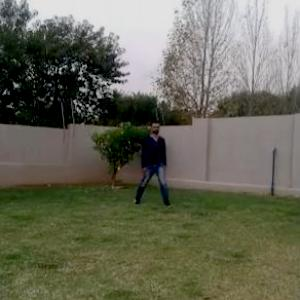follow: (144, 116, 165, 204)
